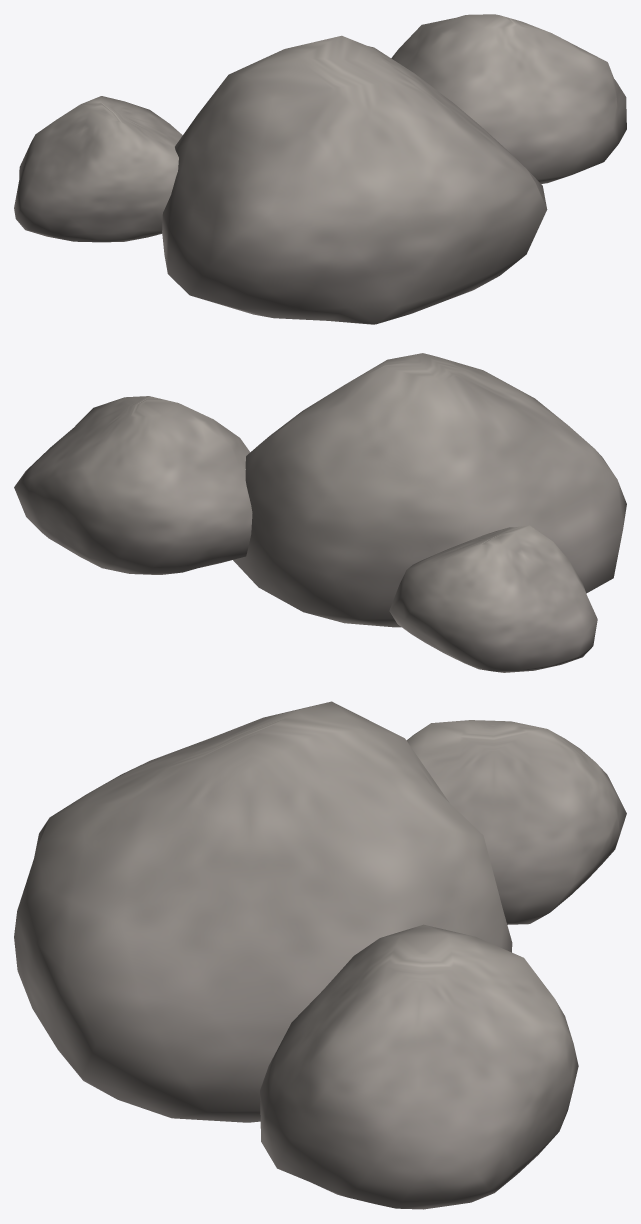
File: Kit_RockB.obj
3 renders of one model, top to bottom at view 1: azimuth 30°, elevation 25°; view 2: azimuth 150°, elevation 25°; view 3: azimuth 270°, elevation 25°, orthographic. The views are drawn at different scales.
Parts seen in each view (by area): view 1: Kit_RockB; view 2: Kit_RockB; view 3: Kit_RockB.
Boxes of the visible parts, box(x1,y1,x2,y2) form: Kit_RockB: box(14, 14, 626, 324); Kit_RockB: box(14, 353, 626, 672); Kit_RockB: box(14, 701, 626, 1209).
Size of the model in its own units: 7.06 by 2.59 by 4.54.
1 material, 1 textured.
